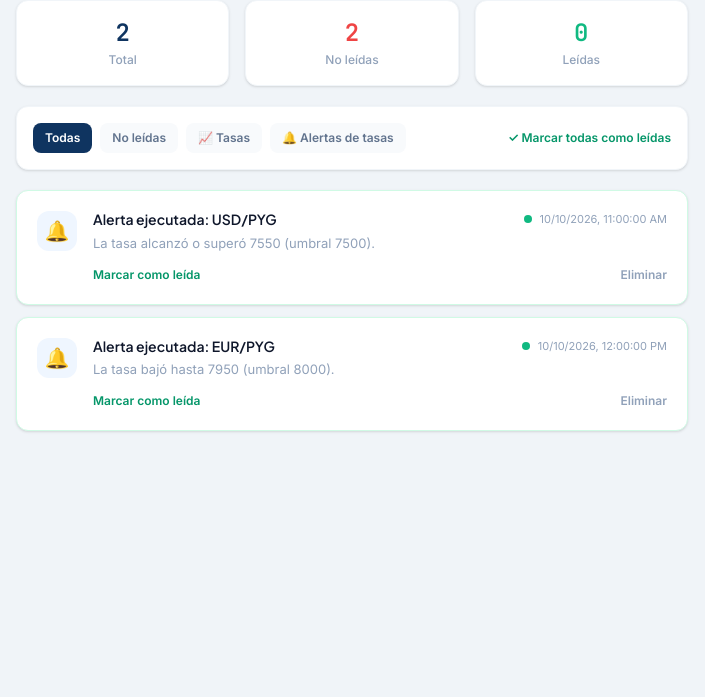
Test: Notifications (disparos reales) › abre la pestaña de configuración de alertas
Expected: the text "Alerta ejecutada: USD/PYG" is shown, [93,211,277,228]
Step 1. Click the button "🔔 Alertas de tasas" → (338, 138), box [270,123,406,153]
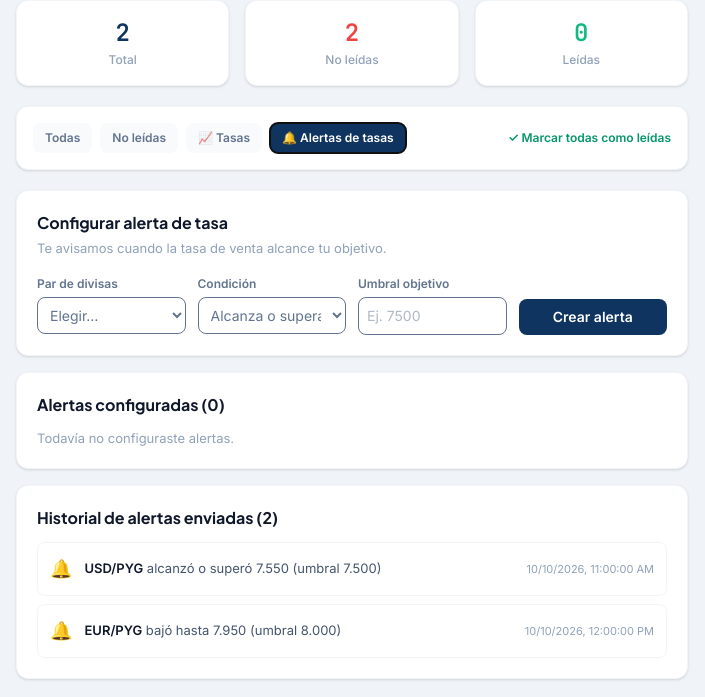
Now the heading "Configurar alerta de tasa" is shown, box [37,212,228,233]
